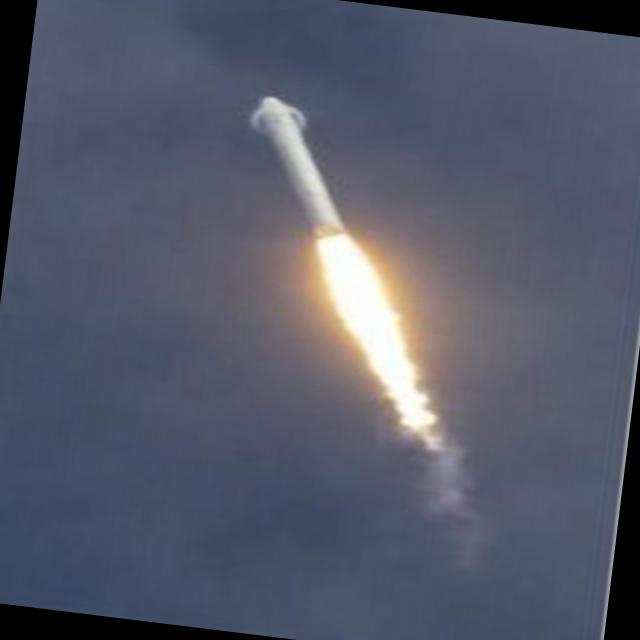rocket: (216, 90, 486, 438)
